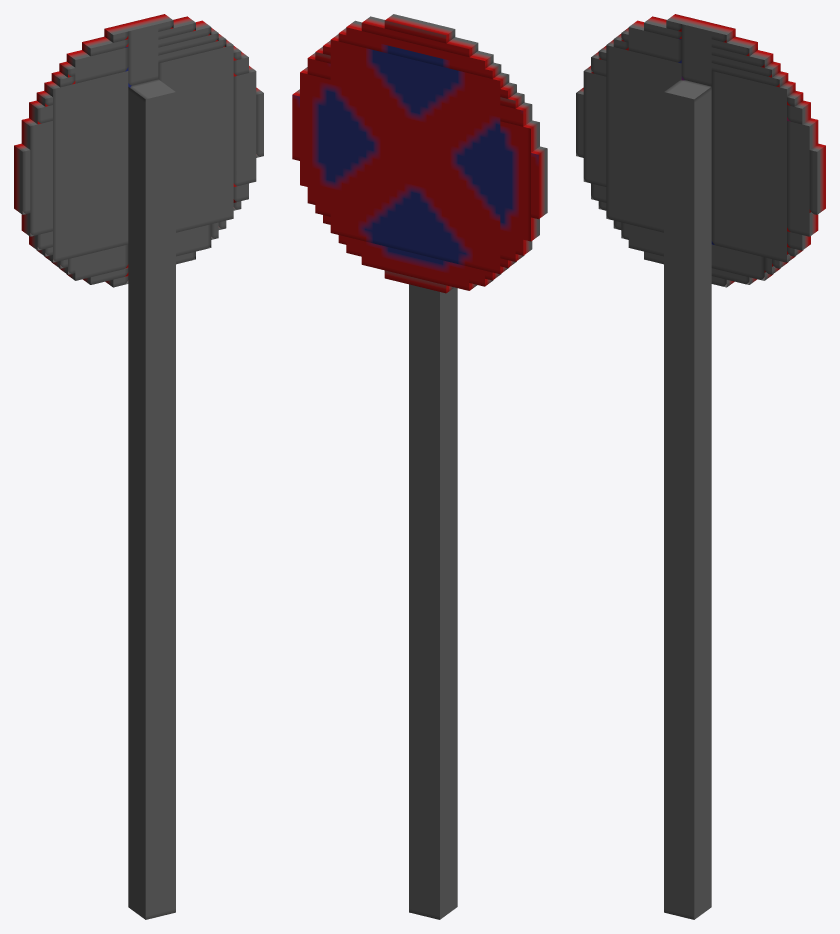
3 views of the same model, side by side, from view 1: azimuth 30°, elevation 25°; view 2: azimuth 150°, elevation 25°; view 3: azimuth 330°, elevation 25° (orthographic). The views are drawn at different scales.
Visible parts, largest first — view 1: Content; view 2: Content; view 3: Content.
Part boxes in pixels (box(x1,y1,x2,y2)): Content: box(14, 14, 263, 919); Content: box(292, 14, 547, 919); Content: box(576, 14, 825, 919).
Bounding box in the file's own units: 32 × 111 × 6.
Materials: 1 (1 with a texture image).
